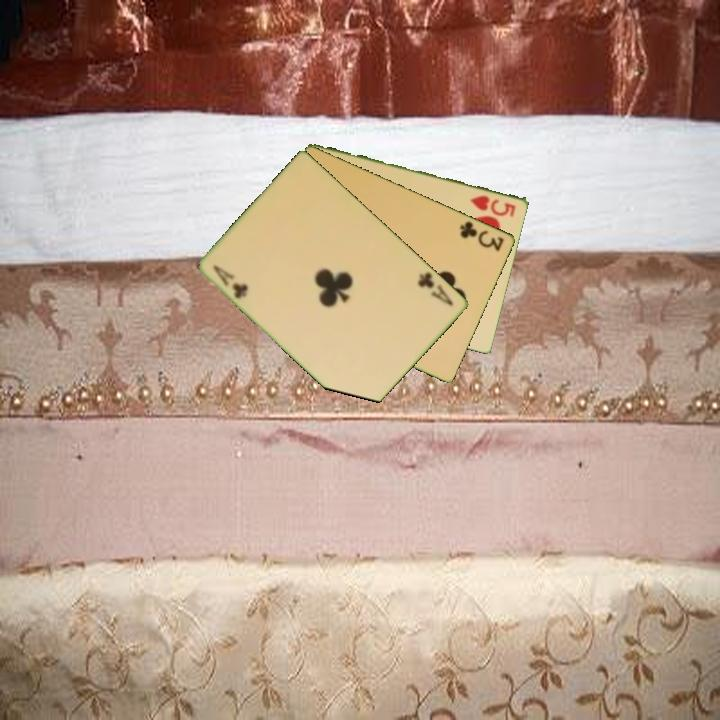3c: (456, 217, 507, 254)
5h: (467, 191, 519, 219)
Ac: (414, 268, 457, 309), (210, 261, 251, 302)
